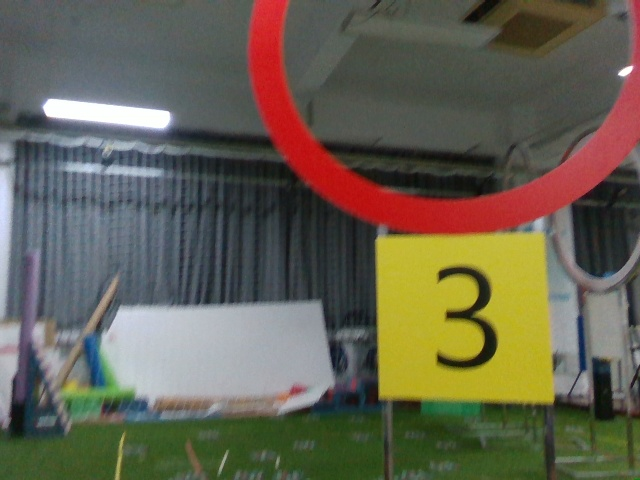target: (380, 237, 554, 398)
